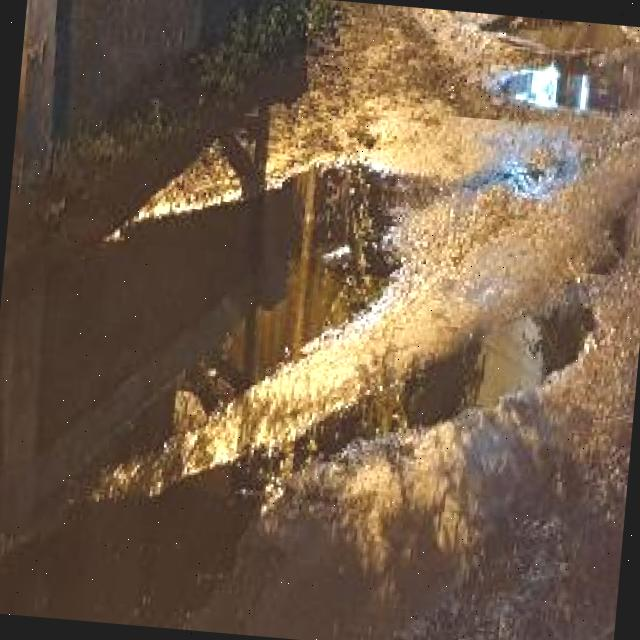stagnation: (0, 175, 387, 640)
